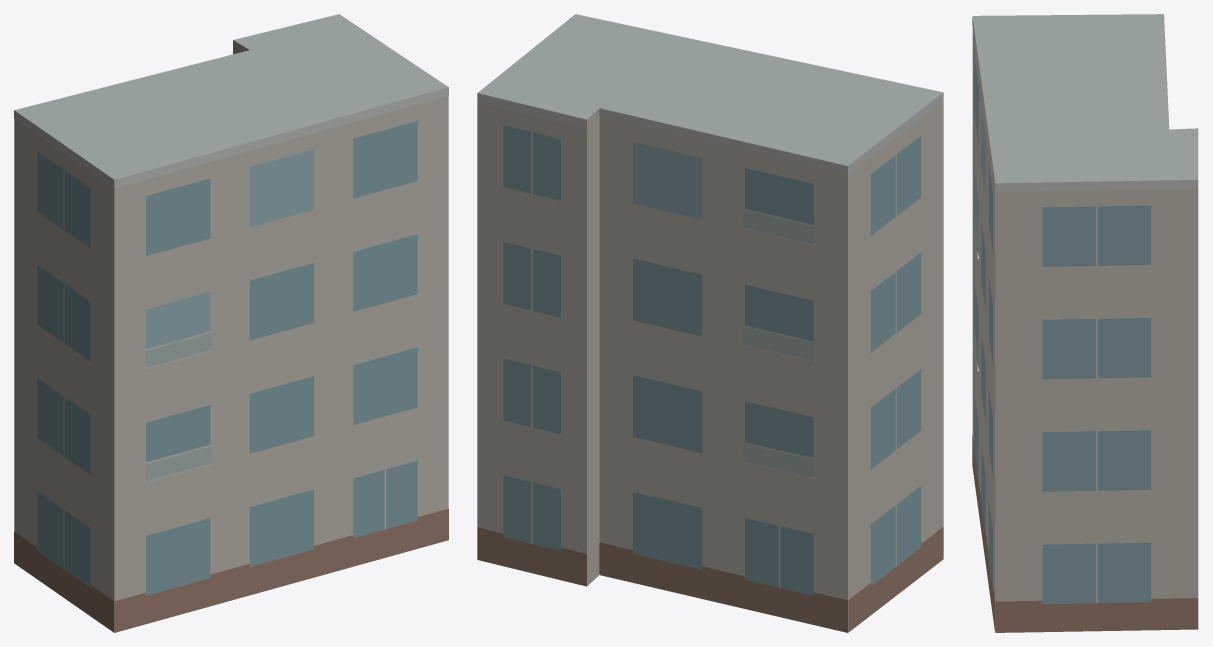
Rendered from survey-upis-32460543.glb.
3 views of the same model, side by side, from view 1: azimuth 30°, elevation 25°; view 2: azimuth 150°, elevation 25°; view 3: azimuth 270°, elevation 25° (orthographic). The views are drawn at different scales.
Parts seen in each view (by area): view 1: survey-upis-32460543.tmp; view 2: survey-upis-32460543.tmp; view 3: survey-upis-32460543.tmp.
Boxes of the visible parts, x1=… form: survey-upis-32460543.tmp: x1=14, y1=14, x2=448, y2=632; survey-upis-32460543.tmp: x1=477, y1=14, x2=943, y2=632; survey-upis-32460543.tmp: x1=972, y1=14, x2=1198, y2=632.
Bounding box in the file's own units: 10.27 × 12.7 × 5.79.
